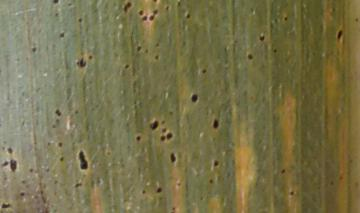tarspot: (74, 147, 90, 173), (74, 56, 88, 72), (8, 158, 19, 175), (211, 116, 221, 133), (188, 91, 201, 104), (168, 150, 178, 166), (147, 119, 159, 131), (121, 1, 132, 14), (148, 9, 159, 21), (165, 130, 175, 143), (30, 43, 39, 56), (336, 28, 343, 44), (5, 145, 15, 156), (183, 11, 193, 22), (198, 67, 209, 77), (54, 108, 63, 120), (212, 159, 222, 169), (1, 201, 11, 211), (134, 43, 144, 53), (257, 33, 266, 44), (57, 154, 68, 163), (158, 132, 166, 144), (153, 186, 165, 194), (134, 133, 143, 143), (18, 190, 27, 200), (282, 13, 290, 24), (123, 61, 130, 73), (58, 31, 66, 41), (270, 46, 278, 56), (141, 13, 148, 24), (76, 15, 83, 26), (55, 141, 65, 148), (136, 8, 144, 15), (50, 1, 61, 6), (248, 55, 255, 61)
